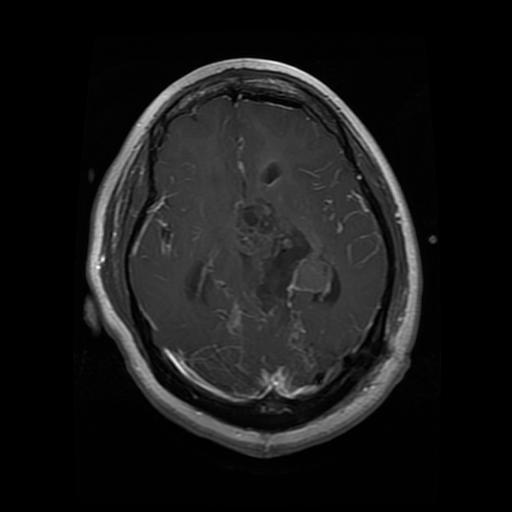Gliomia_tumour: (229, 195, 342, 326)
